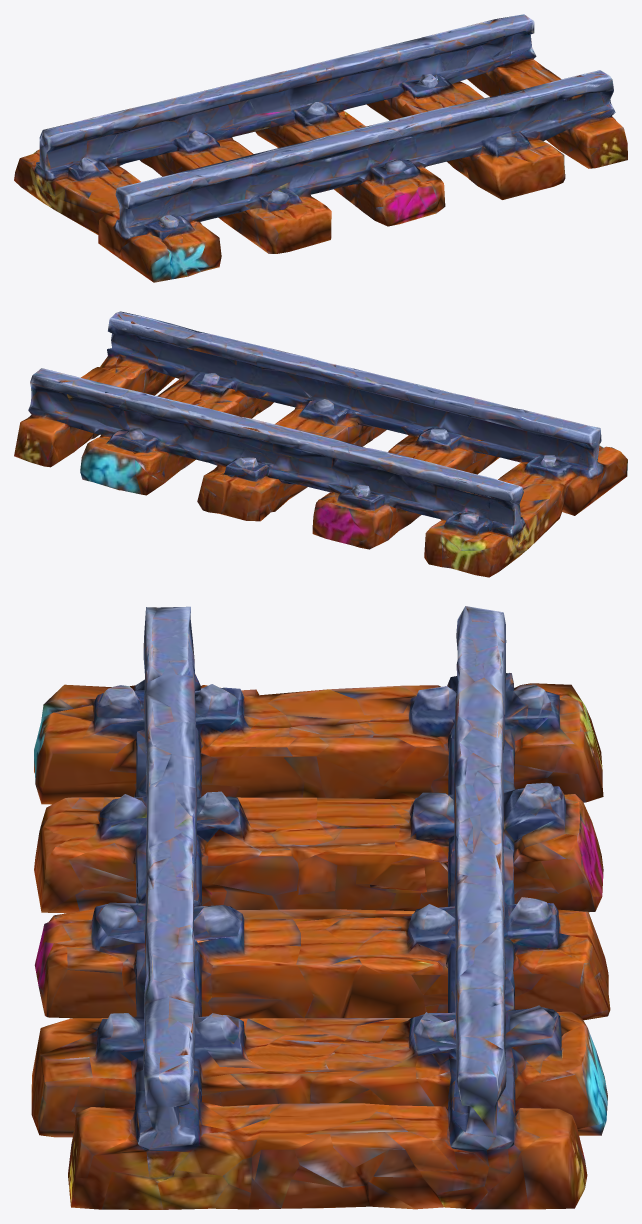
File: rails_meshy.glb
3 renders of one model, top to bottom at view 1: azimuth 30°, elevation 25°; view 2: azimuth 150°, elevation 25°; view 3: azimuth 270°, elevation 25°, orthographic. The views are drawn at different scales.
Size of the model in its own units: 1.9 by 0.2549 by 0.9802.
Materials: 1 (1 with a texture image).
